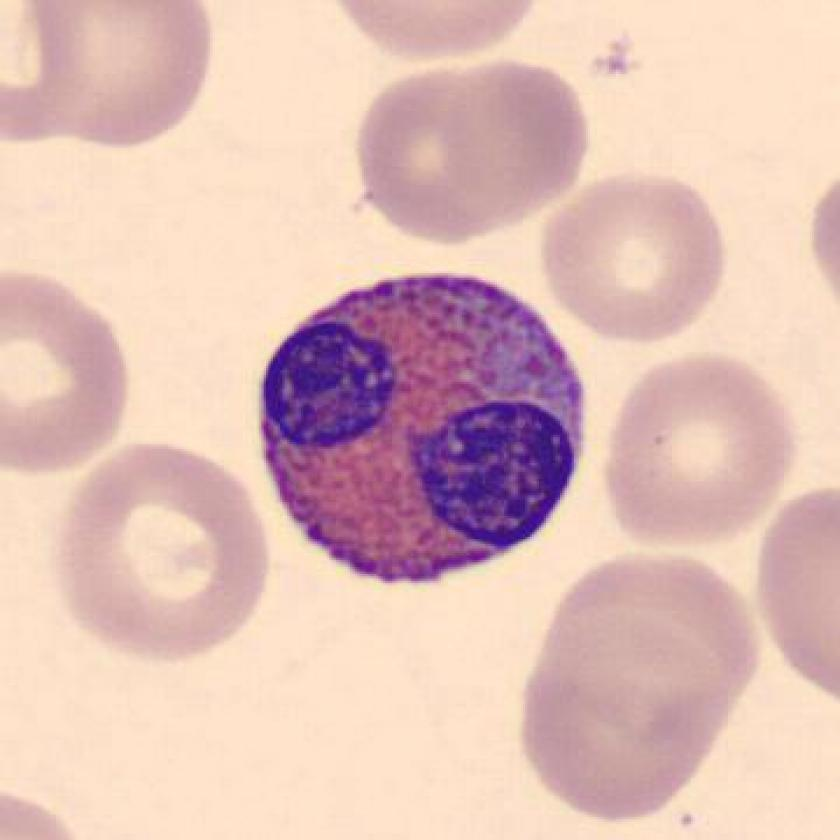eosinophil: (241, 260, 603, 605)
